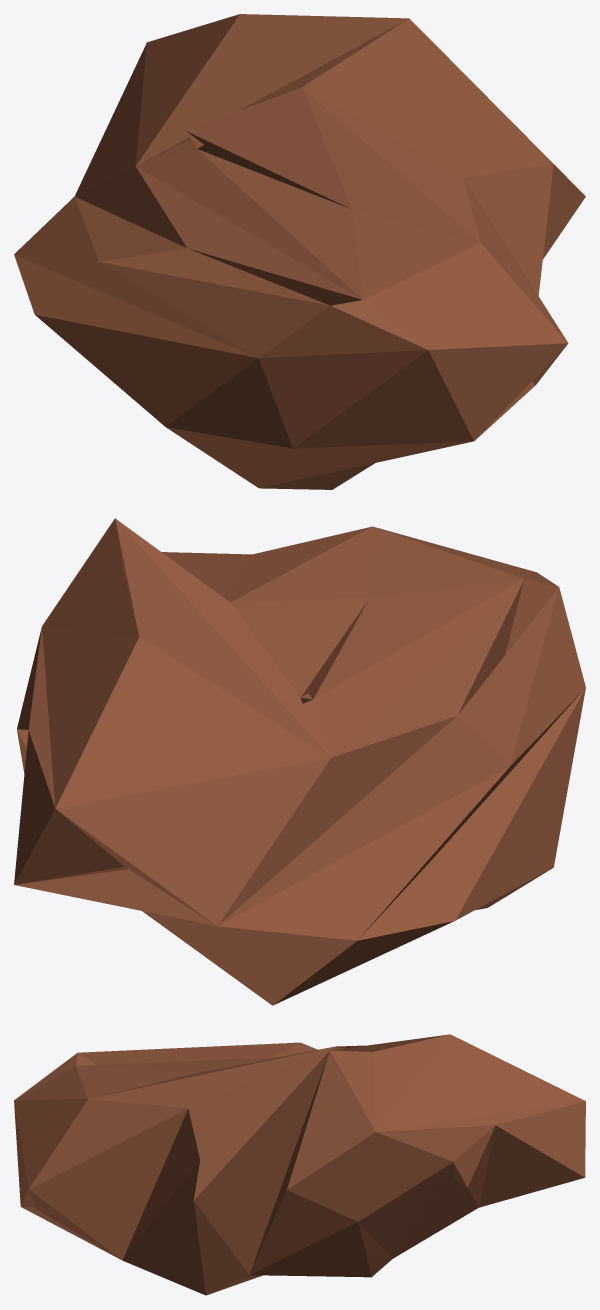
Rendered from Asteroid.009.fbx.
The picture shows the model from 3 angles, top to bottom: view 1: azimuth 30°, elevation 25°; view 2: azimuth 150°, elevation 25°; view 3: azimuth 270°, elevation 25°; orthographic projection. The views are drawn at different scales.
Parts seen in each view (by area): view 1: Asteroid.009; view 2: Asteroid.009; view 3: Asteroid.009.
Part boxes in pixels (x1=…): Asteroid.009: x1=14, y1=14, x2=585, y2=489; Asteroid.009: x1=14, y1=518, x2=585, y2=1005; Asteroid.009: x1=14, y1=1034, x2=585, y2=1295.
Bounding box in the file's own units: 8.05 × 6.4 × 11.42.
